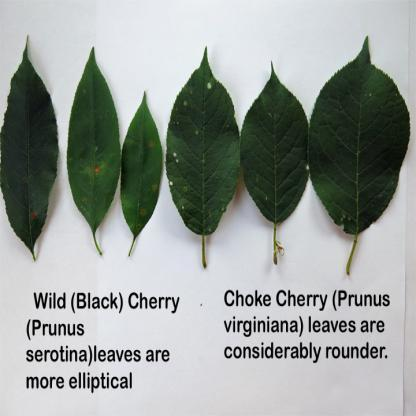Cherry leaf: (309, 26, 413, 247), (162, 38, 240, 288), (1, 38, 59, 276), (240, 41, 308, 226)
